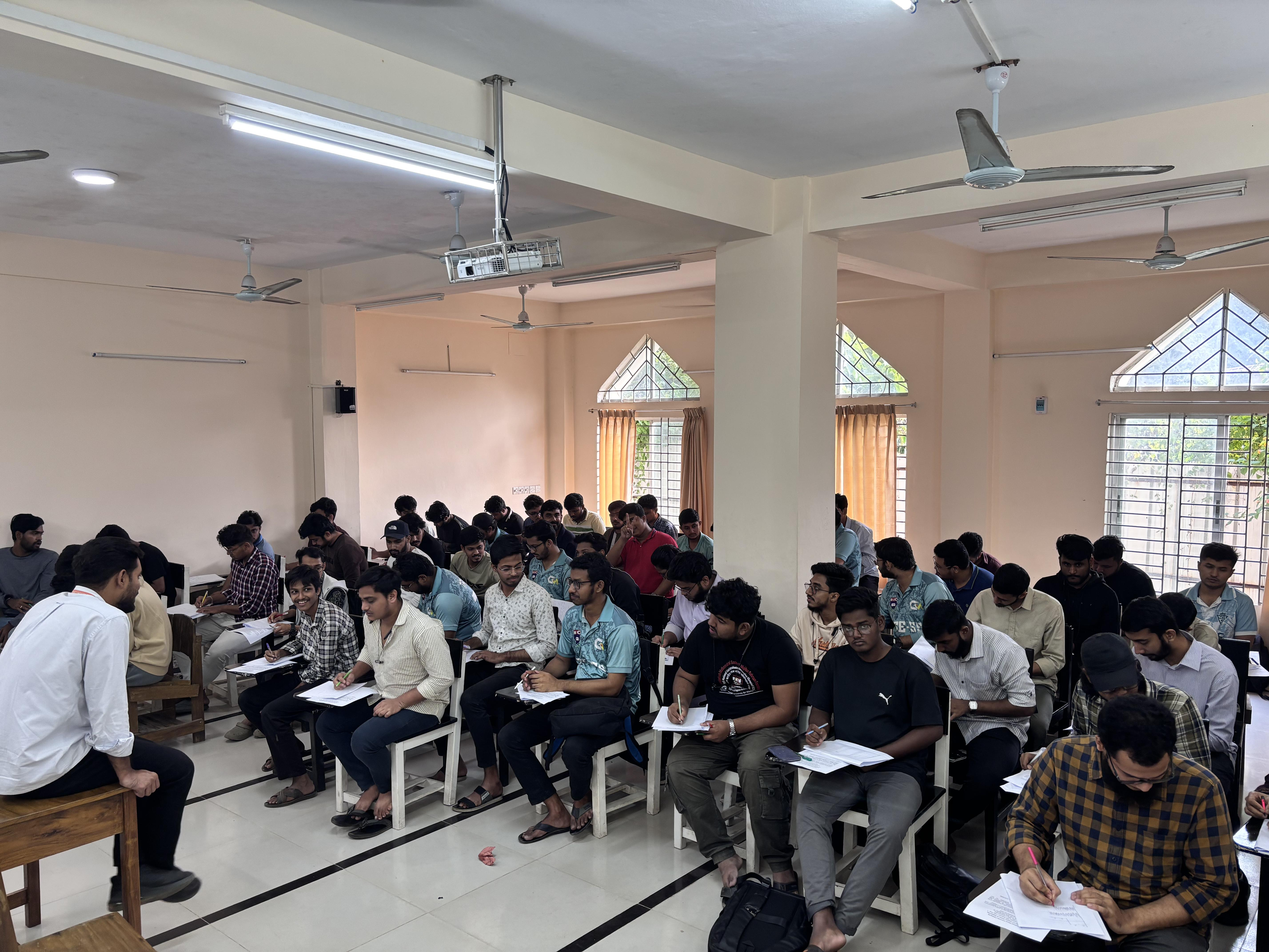copying: (478, 533, 549, 674), (449, 524, 502, 603), (374, 518, 423, 566), (401, 507, 433, 551)
invigilator: (29, 531, 191, 898)
no_cheating: (1004, 690, 1186, 948), (806, 587, 911, 804), (664, 581, 773, 744), (332, 568, 428, 737), (553, 553, 629, 717), (918, 600, 1015, 726), (1177, 537, 1253, 638), (969, 564, 1060, 640), (201, 524, 265, 632), (1124, 597, 1224, 661), (1050, 534, 1103, 641), (291, 511, 367, 576), (794, 558, 846, 646), (521, 519, 565, 587), (1096, 531, 1143, 594), (559, 484, 604, 548), (671, 504, 714, 564), (425, 498, 461, 552)
side_talking: (255, 568, 334, 682), (868, 533, 933, 633), (924, 538, 986, 591), (535, 494, 567, 534)
suspicious_moving: (1, 502, 69, 626), (608, 498, 666, 591)
